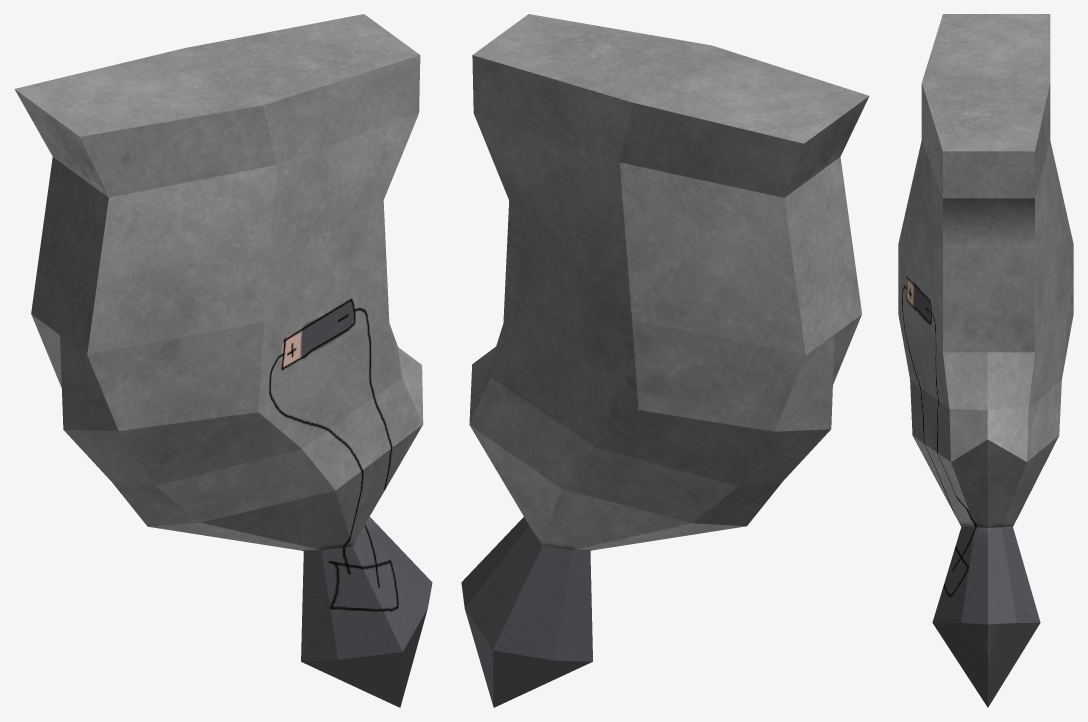
Rendered from StunBash_Grip.fbx.
The picture shows the model from 3 angles, left to right: view 1: azimuth 30°, elevation 25°; view 2: azimuth 150°, elevation 25°; view 3: azimuth 270°, elevation 25°; orthographic projection. The views are drawn at different scales.
Parts seen in each view (by area): view 1: Grip_Stun_Bash; view 2: Grip_Stun_Bash; view 3: Grip_Stun_Bash.
Part boxes in pixels (left/top/right/bottom): Grip_Stun_Bash: left=14, top=14, right=432, bottom=707; Grip_Stun_Bash: left=461, top=14, right=869, bottom=707; Grip_Stun_Bash: left=898, top=14, right=1073, bottom=707.
Size of the model in its own units: 19.13 by 32.51 by 9.31.
